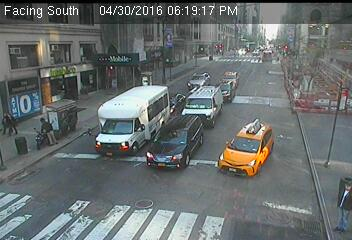neg: (259, 71, 279, 98), (303, 116, 320, 139), (210, 40, 225, 61), (150, 51, 165, 72), (301, 87, 316, 107), (46, 65, 61, 84), (102, 170, 117, 189), (260, 46, 272, 62), (246, 122, 258, 137), (113, 52, 123, 66)
pos: (36, 115, 60, 148), (3, 112, 19, 134)
